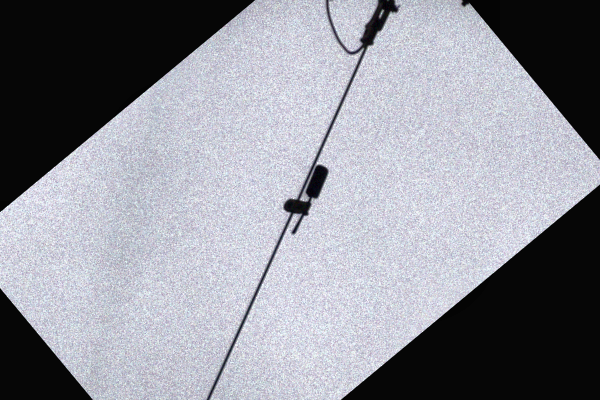damper_defect: (280, 156, 333, 238)
